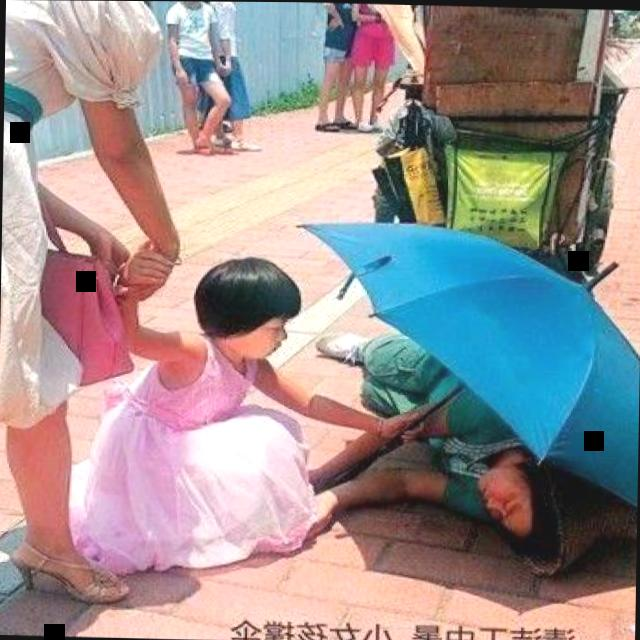Fall-Detected: (301, 338, 623, 576)
